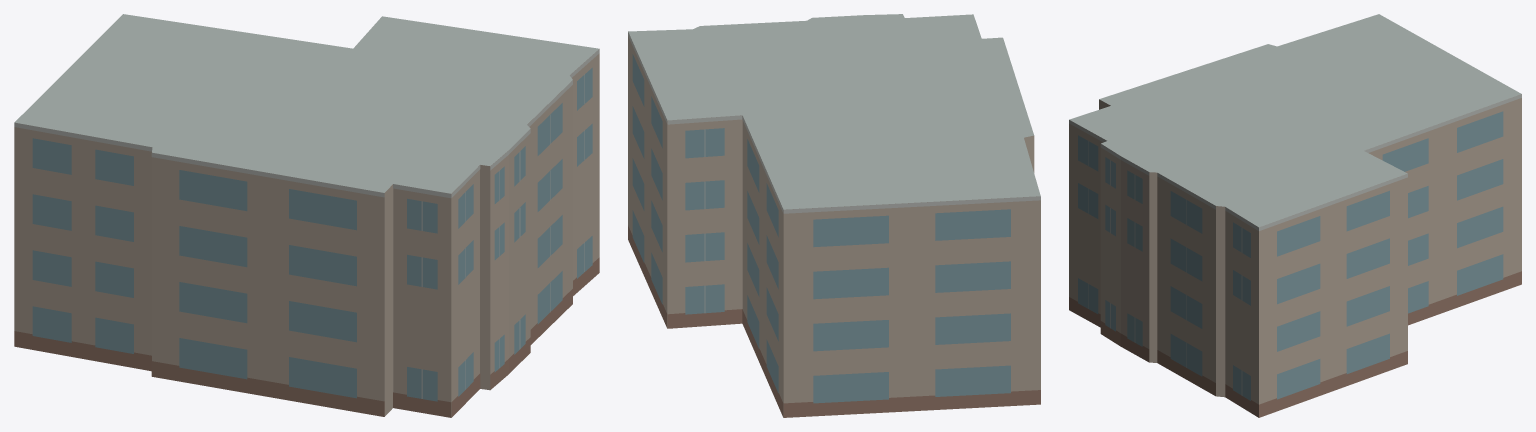
Rendered from survey-upis-32774498.glb.
3 renders of one model, left to right at view 1: azimuth 30°, elevation 25°; view 2: azimuth 150°, elevation 25°; view 3: azimuth 270°, elevation 25°, orthographic. The views are drawn at different scales.
Parts seen in each view (by area): view 1: survey-upis-32774498.tmp; view 2: survey-upis-32774498.tmp; view 3: survey-upis-32774498.tmp.
Part boxes in pixels (<box>): survey-upis-32774498.tmp: <box>14,14,599,417</box>; survey-upis-32774498.tmp: <box>628,14,1040,417</box>; survey-upis-32774498.tmp: <box>1069,14,1521,417</box>.
Size of the model in its own units: 29.33 by 12.2 by 26.29.
